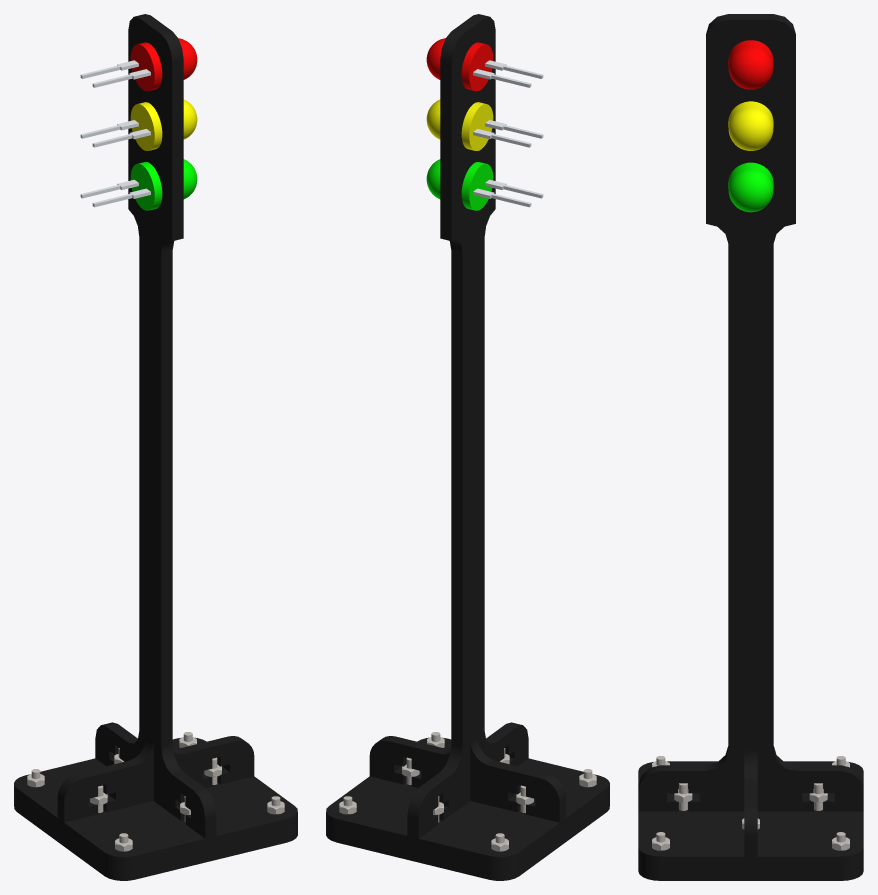
The model's file is Traffic Light.FBX.
3 renders of one model, left to right at view 1: azimuth 30°, elevation 25°; view 2: azimuth 150°, elevation 25°; view 3: azimuth 270°, elevation 25°, orthographic. The views are drawn at different scales.
Visible parts, largest first — view 1: Fillet1 (×4), Cut-Revolve1[1] (×3); view 2: Fillet1 (×4), Cut-Revolve1[1] (×3); view 3: Fillet1 (×4), Cut-Revolve1[1] (×3).
Part boxes in pixels (bbox=[...]): Fillet1 (×4): bbox=[14, 14, 297, 880]; Cut-Revolve1[1] (×3): bbox=[130, 38, 197, 210]; Fillet1 (×4): bbox=[326, 14, 609, 880]; Cut-Revolve1[1] (×3): bbox=[426, 38, 493, 210]; Fillet1 (×4): bbox=[638, 14, 863, 880]; Cut-Revolve1[1] (×3): bbox=[728, 40, 773, 212].
Size of the model in its own units: 1.97 by 1.97 by 7.91.
